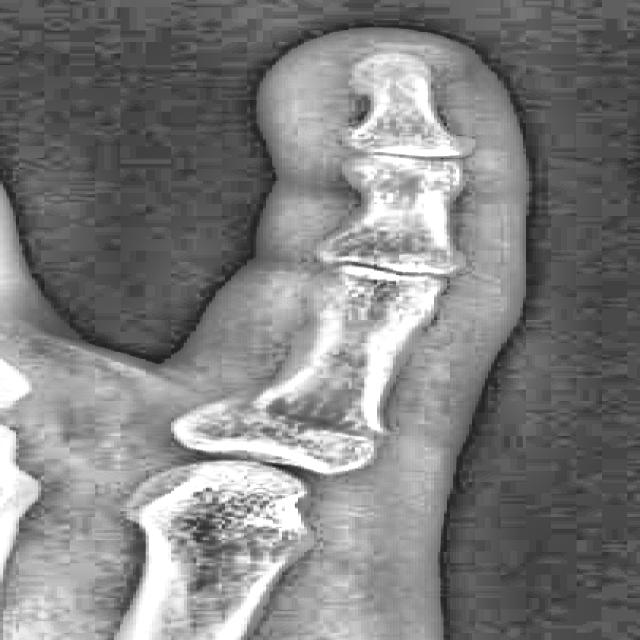fracture: (228, 394, 399, 440)
